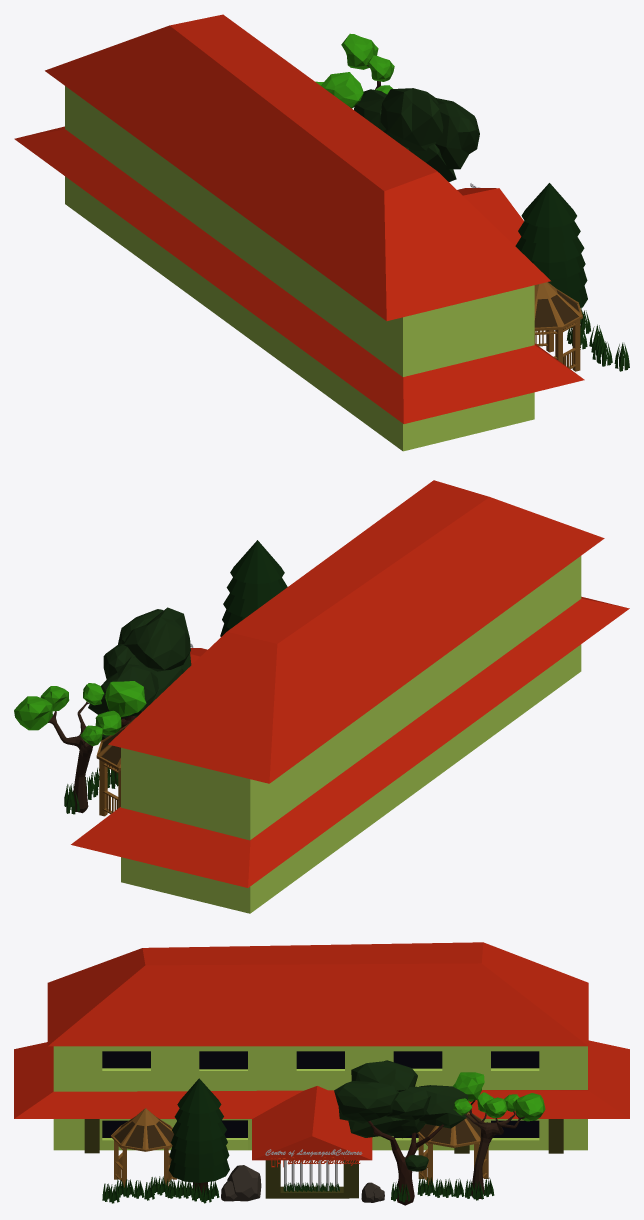
The model's file is GedungUPT3.obj.
The picture shows the model from 3 angles, top to bottom: view 1: azimuth 30°, elevation 25°; view 2: azimuth 150°, elevation 25°; view 3: azimuth 270°, elevation 25°; orthographic projection. The views are drawn at different scales.
Parts seen in each view (by area): view 1: Cube.003_Cube.004, Cube.001_Cube.002, Cube.004_Cube.005, Tree2.2_Cube.020, Tree3.1_Cylinder.013, Tree1.1_Icosphere.005, Cube.002_Cube.003, pCylinder3.001_Untitled.091; view 2: Cube.003_Cube.004, Cube.001_Cube.002, Cube.004_Cube.005, Tree2.2_Cube.020, Tree1.1_Icosphere.005, Tree3.1_Cylinder.013; view 3: Cube.003_Cube.004, Cube.001_Cube.002, Cube.004_Cube.005, Tree2.2_Cube.020, Cube.002_Cube.003, Tree3.1_Cylinder.013, Tree1.1_Icosphere.005, pCylinder3.001_Untitled.091, Stone3.1_Cube.030, pCylinder3_Untitled.036, Cube.005_Cube.006, Cube.013_Cube.014 (+4 smaller).
Part boxes in pixels (<box>): Cube.003_Cube.004: <box>45,14,550,320</box>; Cube.001_Cube.002: <box>65,86,534,451</box>; Cube.004_Cube.005: <box>14,126,584,423</box>; Tree2.2_Cube.020: <box>354,88,479,181</box>; Tree3.1_Cylinder.013: <box>515,183,587,330</box>; Tree1.1_Icosphere.005: <box>315,33,394,108</box>; Cube.002_Cube.003: <box>457,188,523,245</box>; pCylinder3.001_Untitled.091: <box>534,290,579,327</box>; Cube.003_Cube.004: <box>108,480,604,783</box>; Cube.001_Cube.002: <box>121,556,581,913</box>; Cube.004_Cube.005: <box>71,596,629,887</box>; Tree2.2_Cube.020: <box>88,607,191,783</box>; Tree1.1_Icosphere.005: <box>14,681,146,813</box>; Tree3.1_Cylinder.013: <box>220,540,287,636</box>; Cube.003_Cube.004: <box>47,942,588,1046</box>; Cube.001_Cube.002: <box>53,1046,587,1150</box>; Cube.004_Cube.005: <box>14,1040,629,1118</box>; Tree2.2_Cube.020: <box>334,1060,468,1205</box>; Cube.002_Cube.003: <box>252,1086,372,1160</box>; Tree3.1_Cylinder.013: <box>169,1078,229,1194</box>; Tree1.1_Icosphere.005: <box>453,1072,545,1199</box>; pCylinder3.001_Untitled.091: <box>114,1119,173,1148</box>; Stone3.1_Cube.030: <box>227,1165,261,1201</box>; pCylinder3_Untitled.036: <box>419,1112,480,1144</box>; Cube.005_Cube.006: <box>265,1160,280,1198</box>; Cube.013_Cube.014: <box>280,1186,348,1198</box>.
Bounding box in the file's own units: 4.56 × 3.34 × 10.25.
